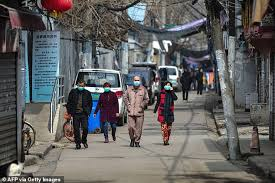mask: (75, 81, 84, 89), (103, 82, 111, 91), (133, 76, 140, 85), (163, 83, 171, 90)
